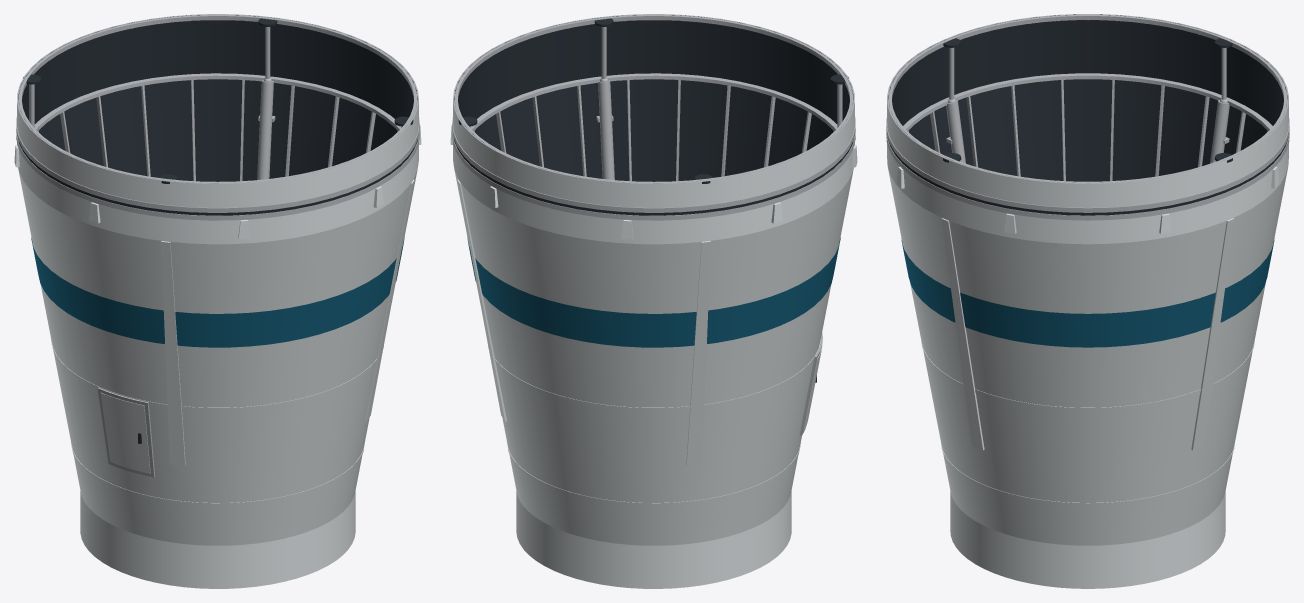
The model's file is interstage_pneumatic_d37_to_d54.fbx.
The picture shows the model from 3 angles, left to right: view 1: azimuth 30°, elevation 25°; view 2: azimuth 150°, elevation 25°; view 3: azimuth 270°, elevation 25°; orthographic projection.
Visible parts, largest first — view 1: interstage_pneumatic_d37_to_d54_LOD0; view 2: interstage_pneumatic_d37_to_d54_LOD0; view 3: interstage_pneumatic_d37_to_d54_LOD0.
Boxes of the visible parts, box(x1,y1,x2,y2) form: interstage_pneumatic_d37_to_d54_LOD0: box(14, 14, 421, 588); interstage_pneumatic_d37_to_d54_LOD0: box(450, 14, 857, 588); interstage_pneumatic_d37_to_d54_LOD0: box(886, 14, 1289, 588).
Size of what is drawn, in the model's own units: 5.42 by 6.4 by 5.42.
